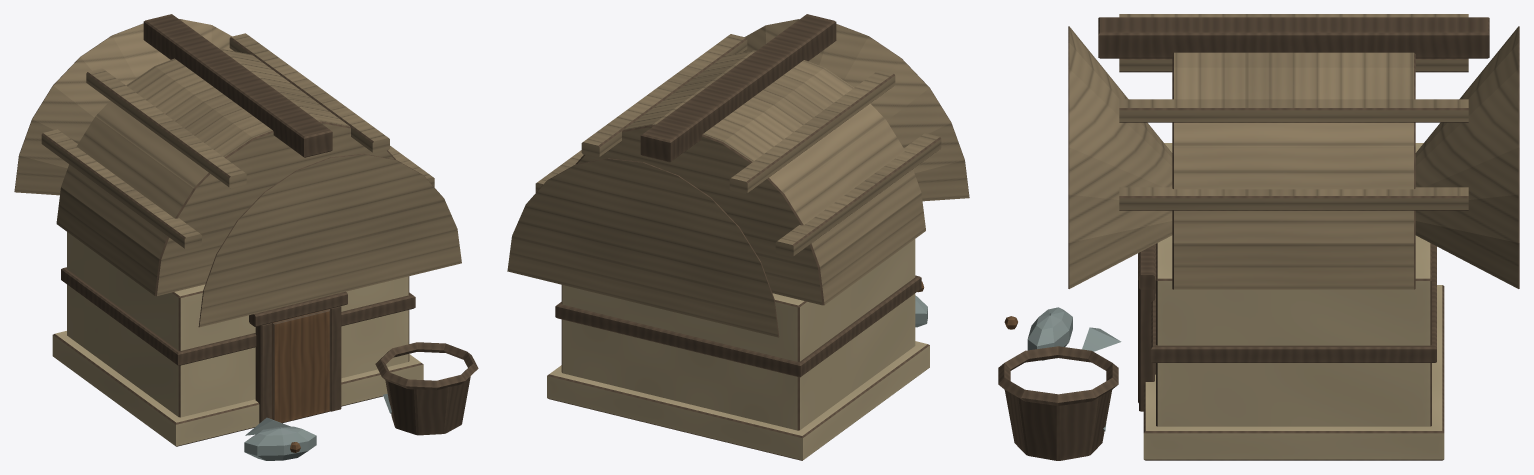
The model's file is upturned-hull.glb.
The picture shows the model from 3 angles, left to right: view 1: azimuth 30°, elevation 25°; view 2: azimuth 150°, elevation 25°; view 3: azimuth 270°, elevation 25°; orthographic projection. The views are drawn at different scales.
Visible parts, largest first — view 1: upturned-hull; view 2: upturned-hull; view 3: upturned-hull.
Part boxes in pixels (bbox=[...]): upturned-hull: bbox=[14, 14, 478, 460]; upturned-hull: bbox=[507, 14, 969, 460]; upturned-hull: bbox=[998, 14, 1519, 460].
Size of the model in its own units: 0.468 by 0.4925 by 0.6422.
1 material, 1 textured.
